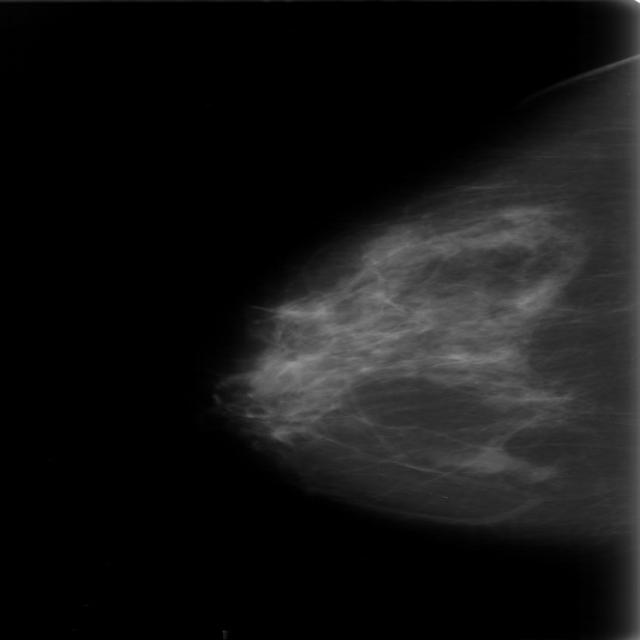tumour: (465, 445, 520, 474)
